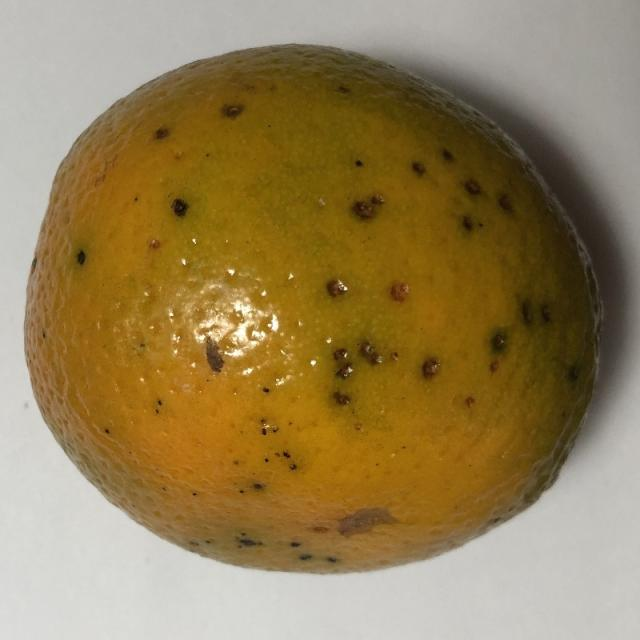blackspot: (3, 34, 614, 593)
